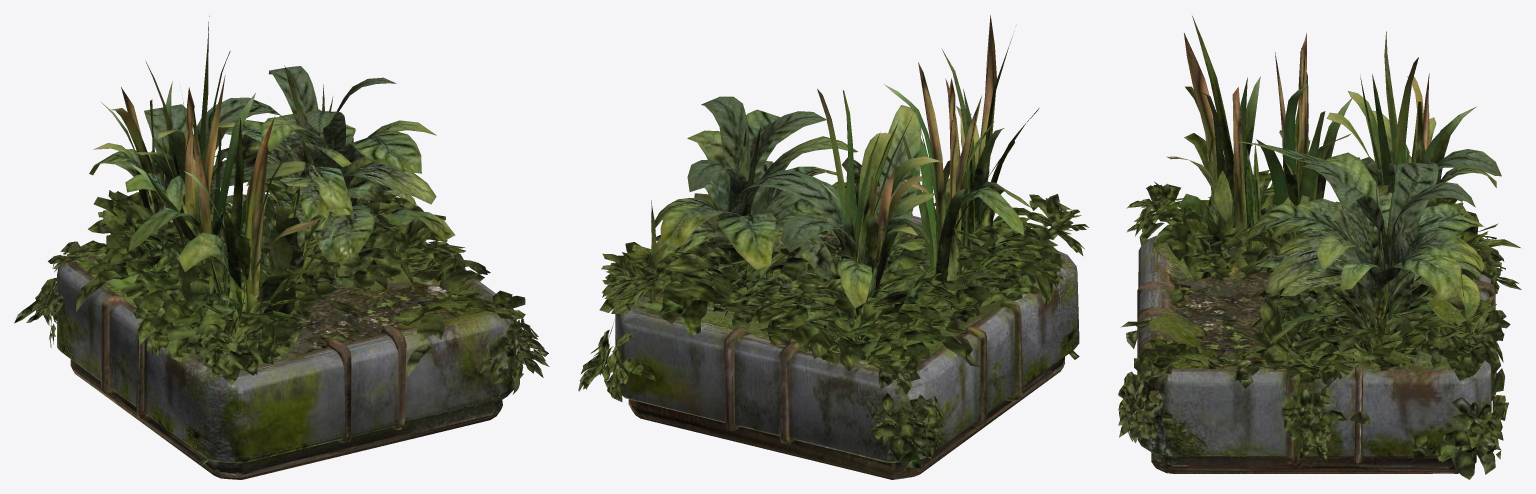
Rendered from rail-swamp-bush.glb.
The picture shows the model from 3 angles, left to right: view 1: azimuth 30°, elevation 25°; view 2: azimuth 150°, elevation 25°; view 3: azimuth 270°, elevation 25°; orthographic projection. The views are drawn at different scales.
Parts seen in each view (by area): view 1: Mesh_0; view 2: Mesh_0; view 3: Mesh_0.
Boxes of the visible parts, box(x1,y1,x2,y2) form: Mesh_0: box(14, 16, 549, 479); Mesh_0: box(578, 15, 1088, 479); Mesh_0: box(1118, 16, 1521, 479).
Size of the model in its own units: 0.8587 by 0.8 by 0.857.
Materials: 1 (1 with a texture image).
